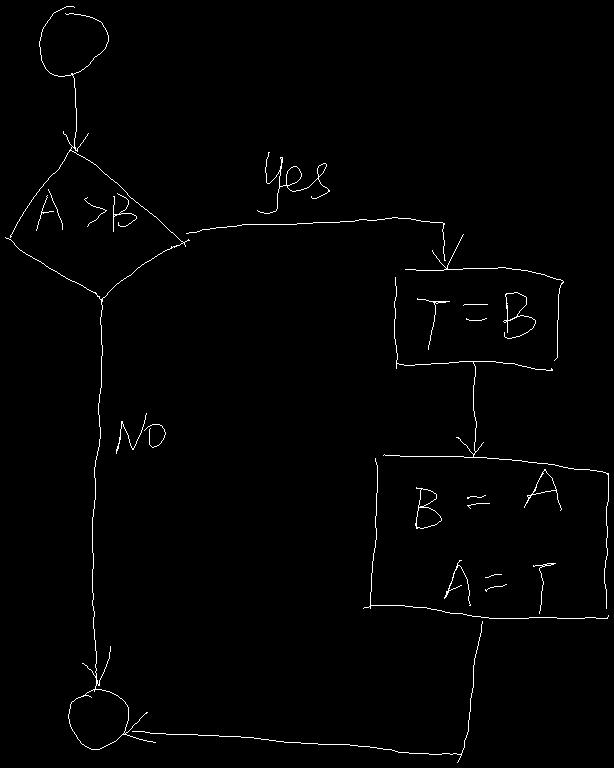arrow: (123, 621, 482, 762), (186, 217, 463, 268), (82, 299, 110, 691), (456, 361, 483, 456), (63, 73, 88, 151)
connection: (39, 6, 108, 76), (68, 689, 128, 749)
decision: (5, 147, 189, 301)
process: (363, 454, 608, 618), (394, 267, 563, 370)
text: (415, 469, 561, 613), (417, 292, 535, 349), (257, 152, 329, 213), (36, 189, 136, 231), (116, 413, 165, 453)
